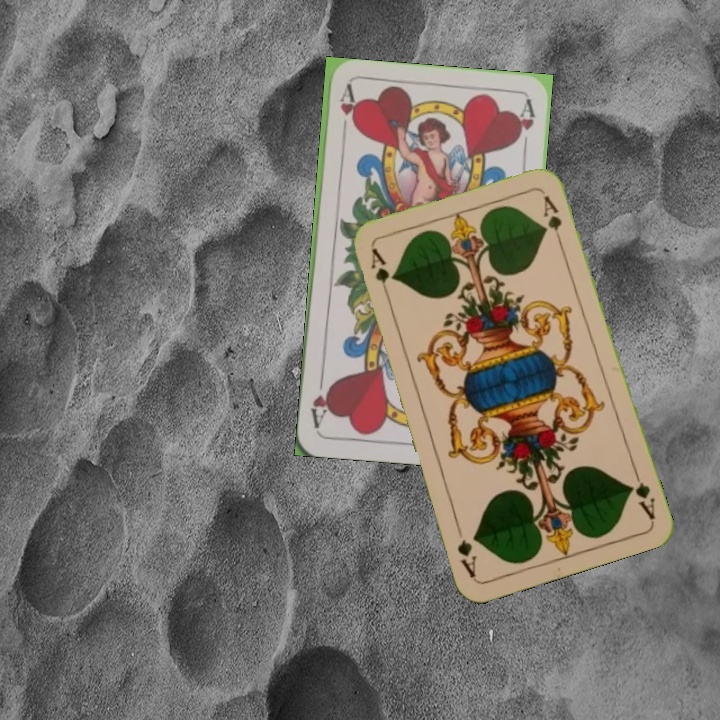GA: (625, 465, 658, 522), (366, 244, 393, 302)
HA: (335, 83, 357, 142)
